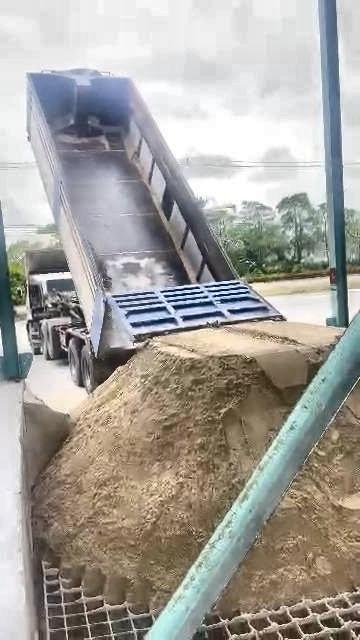sand: (34, 323, 336, 606), (220, 389, 360, 610), (21, 396, 72, 490)
